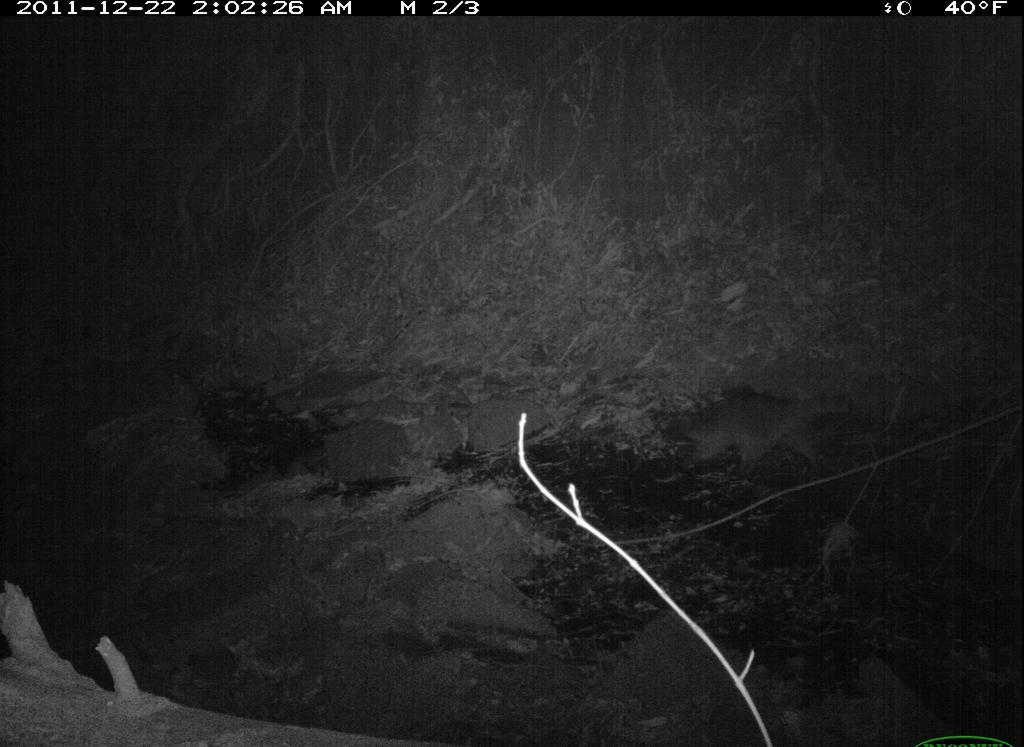raccoon: (649, 383, 858, 479)
